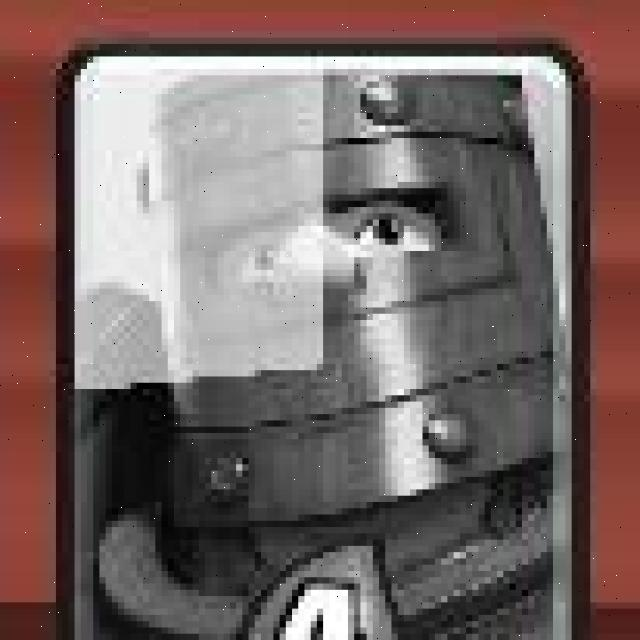Dark_Prince: (48, 39, 591, 640)
